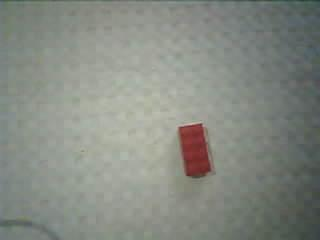lego: (176, 123, 210, 176)
